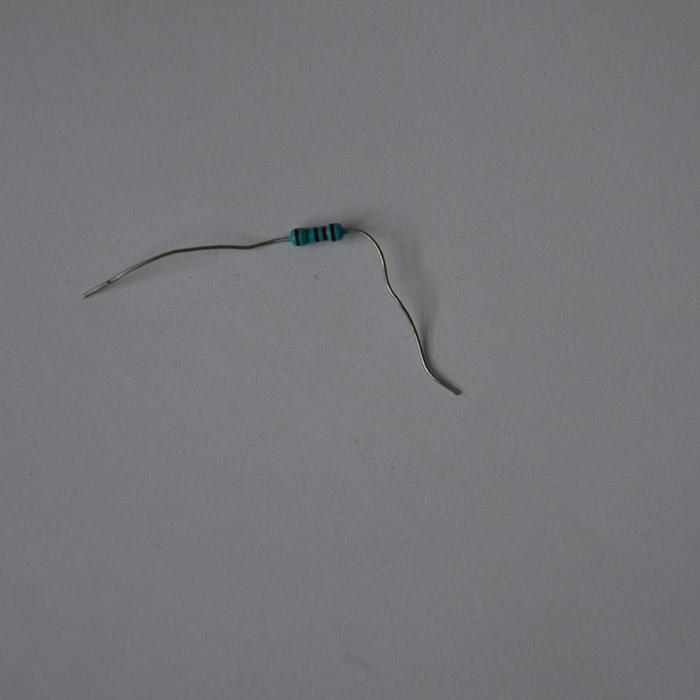resistor: (289, 222, 347, 245)
